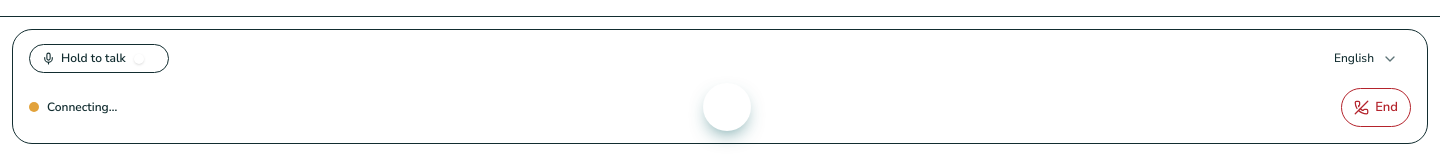
Test case: voice mode › End closes the session and brings the text input back
The width and height of the screenshot is (1440, 162).
Click the button "End": (1376, 107) top-left (1341, 88), bottom-right (1411, 127)
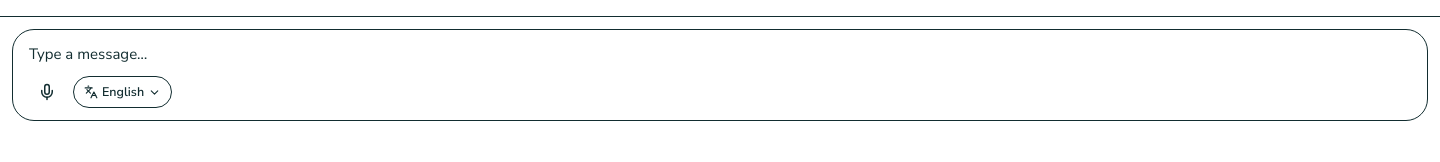
Result: the text box named "Message your tutor" is shown at top-left (29, 42), bottom-right (1411, 66)
